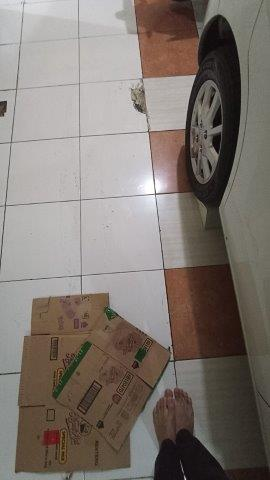kardus: (16, 294, 170, 472)
